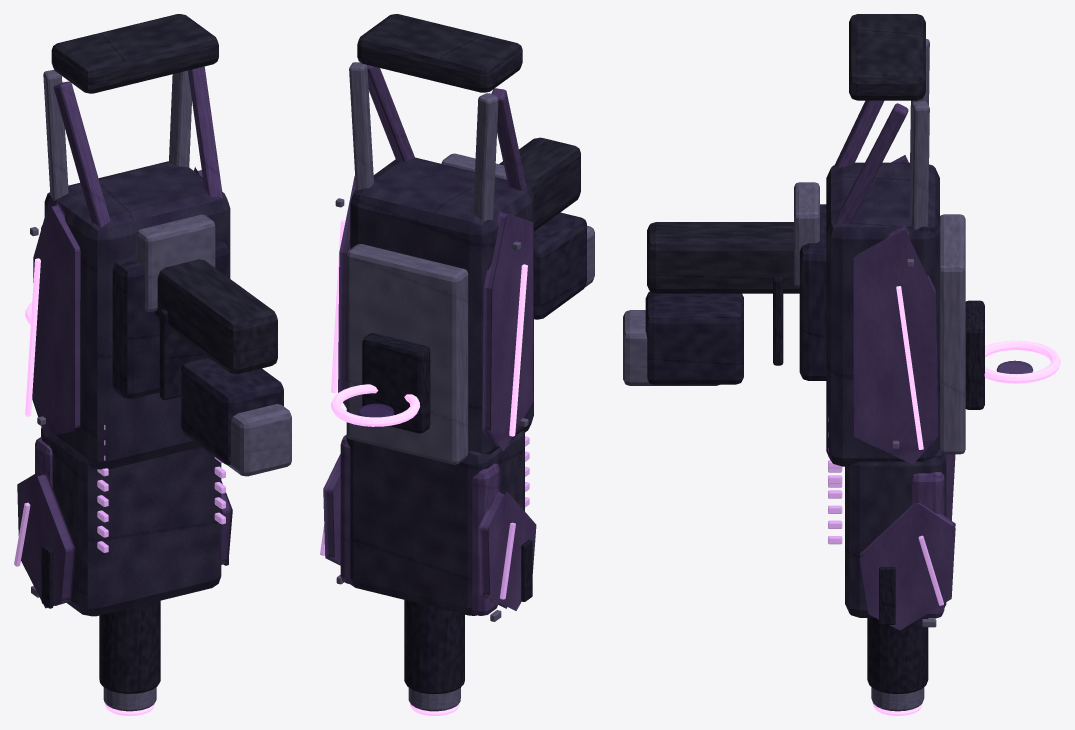
Rendered from aether-s9-eclipse.glb.
The picture shows the model from 3 angles, left to right: view 1: azimuth 30°, elevation 25°; view 2: azimuth 150°, elevation 25°; view 3: azimuth 270°, elevation 25°; orthographic projection.
Parts seen in each view (by area): view 1: S9 / compact angular forebody, 01 / central monocoque, 06 / sculpted receiver cheek-1, 04 / pistol grip, S9 / folding butt, S9 / grip lower cell, 03 / matte lower receiver, S9 / recessed emitter housing, S9 / faceted cowl -1, 05 / rear handle ferrule, S9 / short magazine, S9 / floating rear strut -1 (+9 smaller); view 2: S9 / compact angular forebody, 02 / receiver crown, 01 / central monocoque, 06 / sculpted receiver cheek-1, S9 / folding butt, S9 / recessed emitter housing, S9 / optic base, S9 / grip lower cell, S9 / faceted cowl -1, 04 / pistol grip, S9 / forward ceramic wings, S9 / skeleton stock top -1 (+13 smaller); view 3: 06 / sculpted receiver cheek1, 01 / central monocoque, 04 / pistol grip, S9 / grip lower cell, S9 / faceted cowl 1, S9 / compact angular forebody, S9 / folding butt, 02 / receiver crown, S9 / recessed emitter housing, 03 / matte lower receiver, S9 / skeleton stock top 1, S9 / optic base (+10 smaller).
Part boxes in pixels (bbox=[...]): S9 / compact angular forebody: bbox=[41, 427, 221, 616]; 01 / central monocoque: bbox=[44, 161, 230, 469]; 06 / sculpted receiver cheek-1: bbox=[32, 200, 80, 437]; 04 / pistol grip: bbox=[155, 259, 277, 373]; S9 / folding butt: bbox=[51, 14, 218, 93]; S9 / grip lower cell: bbox=[181, 357, 283, 464]; 03 / matte lower receiver: bbox=[112, 237, 229, 398]; S9 / recessed emitter housing: bbox=[99, 600, 160, 693]; S9 / faceted cowl -1: bbox=[17, 473, 75, 608]; 05 / rear handle ferrule: bbox=[136, 214, 215, 311]; S9 / short magazine: bbox=[227, 404, 291, 476]; S9 / floating rear strut -1: bbox=[53, 81, 110, 227]; S9 / compact angular forebody: bbox=[346, 431, 524, 615]; 02 / receiver crown: bbox=[346, 244, 468, 464]; 01 / central monocoque: bbox=[350, 157, 533, 454]; 06 / sculpted receiver cheek-1: bbox=[482, 211, 533, 451]; S9 / folding butt: bbox=[357, 14, 522, 92]; S9 / recessed emitter housing: bbox=[404, 600, 464, 693]; S9 / optic base: bbox=[362, 333, 430, 433]; S9 / grip lower cell: bbox=[534, 212, 586, 319]; S9 / faceted cowl -1: bbox=[478, 491, 536, 610]; 04 / pistol grip: bbox=[499, 137, 580, 231]; S9 / forward ceramic wings: bbox=[340, 434, 499, 615]; S9 / skeleton stock top -1: bbox=[473, 93, 498, 221]; 06 / sculpted receiver cheek1: bbox=[853, 225, 938, 464]; 01 / central monocoque: bbox=[826, 162, 939, 466]; 04 / pistol grip: bbox=[647, 222, 799, 293]; S9 / grip lower cell: bbox=[645, 291, 743, 384]; S9 / faceted cowl 1: bbox=[859, 502, 955, 630]; S9 / compact angular forebody: bbox=[845, 449, 946, 617]; S9 / folding butt: bbox=[849, 14, 925, 100]; 02 / receiver crown: bbox=[940, 214, 965, 454]; S9 / recessed emitter housing: bbox=[867, 618, 928, 694]; 03 / matte lower receiver: bbox=[799, 204, 826, 380]; S9 / skeleton stock top 1: bbox=[910, 101, 929, 229]; S9 / optic base: bbox=[965, 300, 984, 409].
Bounding box in the file's own units: 0.5125 × 1.75 × 1.05.
9 materials, 9 textured.
